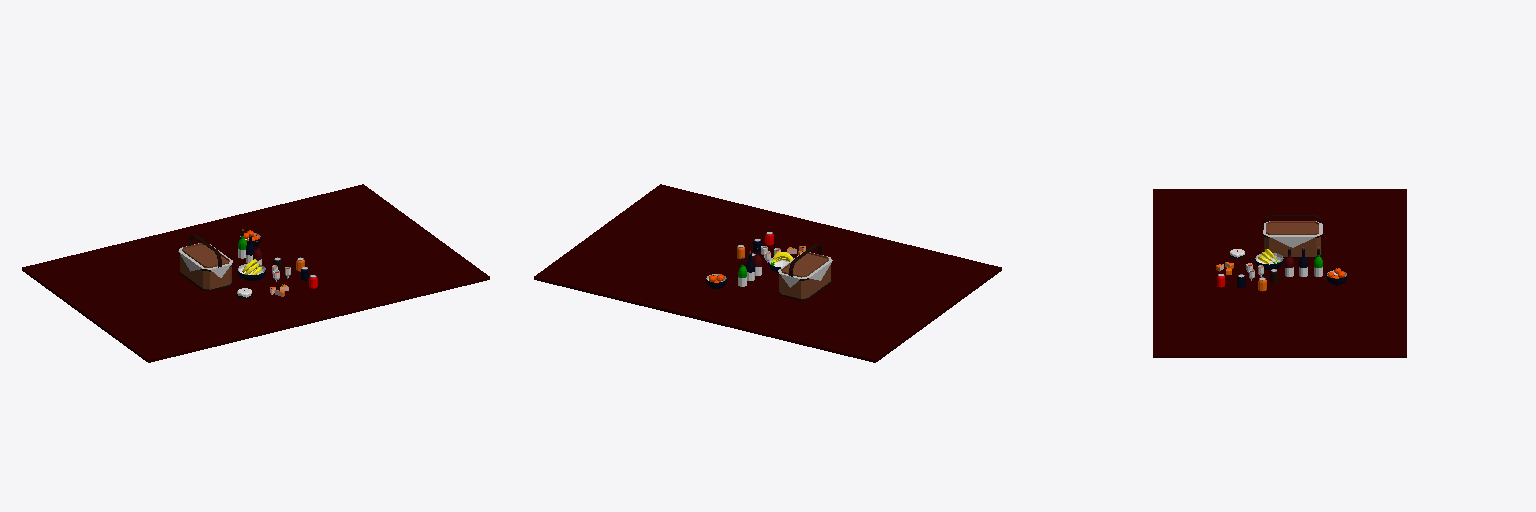
The model's file is food.obj.
3 views of the same model, side by side, from view 1: azimuth 30°, elevation 25°; view 2: azimuth 150°, elevation 25°; view 3: azimuth 270°, elevation 25° (orthographic).
Parts seen in each view (by area): view 1: WoolCarpet1, SM_fanhe; view 2: WoolCarpet1, SM_fanhe; view 3: WoolCarpet1, SM_fanhe.
Boxes of the visible parts, x1,y1,x2,y2 form: WoolCarpet1: [22, 184, 489, 362]; SM_fanhe: [178, 235, 232, 290]; WoolCarpet1: [534, 184, 1001, 362]; SM_fanhe: [778, 244, 832, 300]; WoolCarpet1: [1153, 189, 1406, 357]; SM_fanhe: [1263, 215, 1322, 257].
Bounding box in the file's own units: 3.31 × 0.3515 × 2.12.